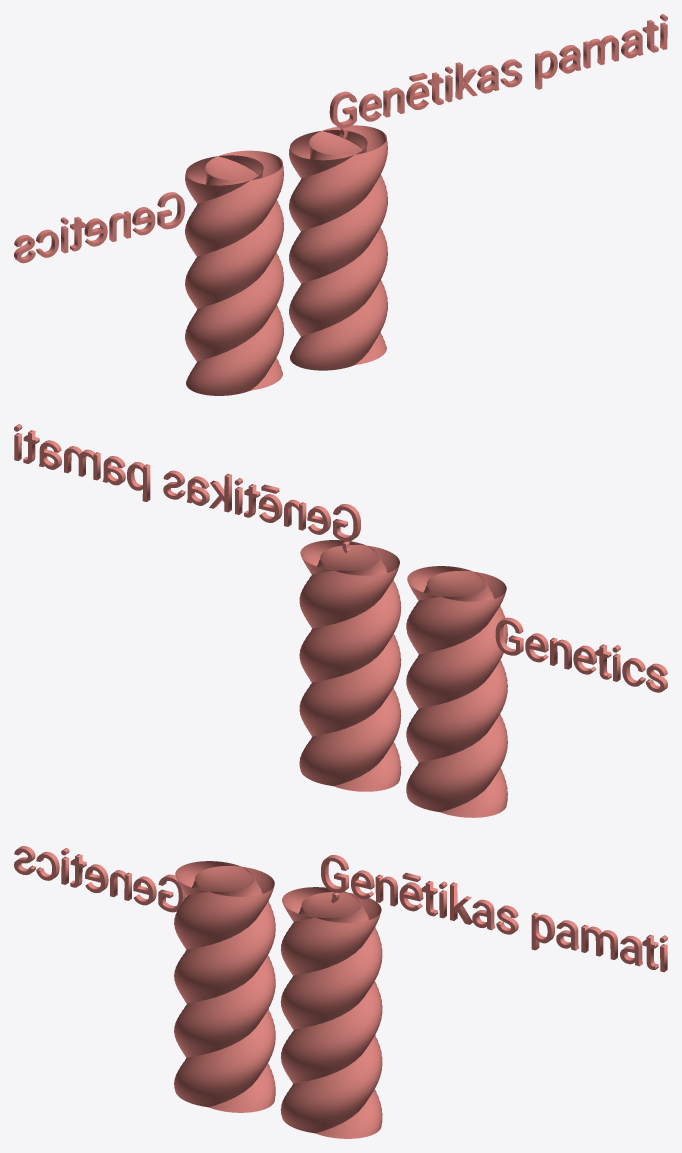
The model's file is dns3.gltf.
3 views of the same model, one above another, from view 1: azimuth 30°, elevation 25°; view 2: azimuth 150°, elevation 25°; view 3: azimuth 330°, elevation 25° (orthographic). The views are drawn at different scales.
Visible parts, largest first — view 1: BezierCircle.001, BezierCircle, Text, Text.001; view 2: BezierCircle, BezierCircle.001, Text, Text.001; view 3: BezierCircle.001, BezierCircle, Text, Text.001.
Part boxes in pixels (x1,y1,x2,y2): BezierCircle.001: [185, 150, 283, 395]; BezierCircle: [289, 125, 387, 370]; Text: [329, 14, 667, 139]; Text.001: [14, 192, 184, 263]; BezierCircle: [299, 540, 401, 791]; BezierCircle.001: [406, 566, 507, 817]; Text: [14, 424, 360, 552]; Text.001: [495, 617, 667, 692]; BezierCircle.001: [174, 861, 275, 1112]; BezierCircle: [280, 887, 382, 1138]; Text: [321, 855, 667, 972]; Text.001: [14, 846, 186, 912].
Bounding box in the file's own units: 11.05 × 4.29 × 1.29.
